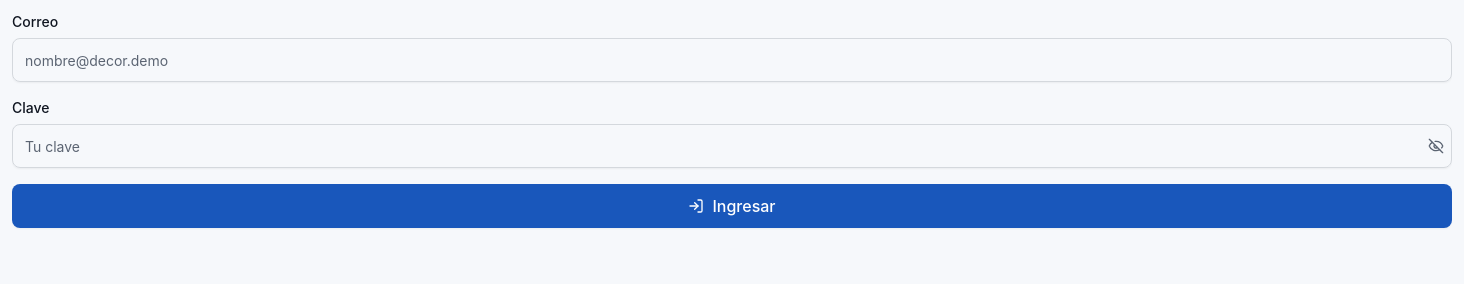
Test case: UserAuthForm › rejects a wrong password with a clear message
In the field labelled "Correo": (732, 60) x1=12 y1=38 x2=1452 y2=82, type "marcela.ortiz@decor.demo"
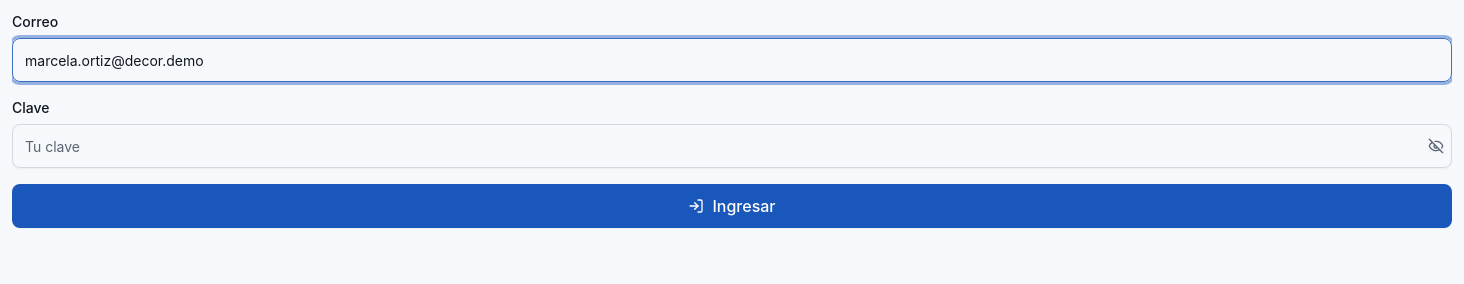
In the password field labelled "Clave": (732, 146) x1=12 y1=124 x2=1452 y2=168, type "mala"
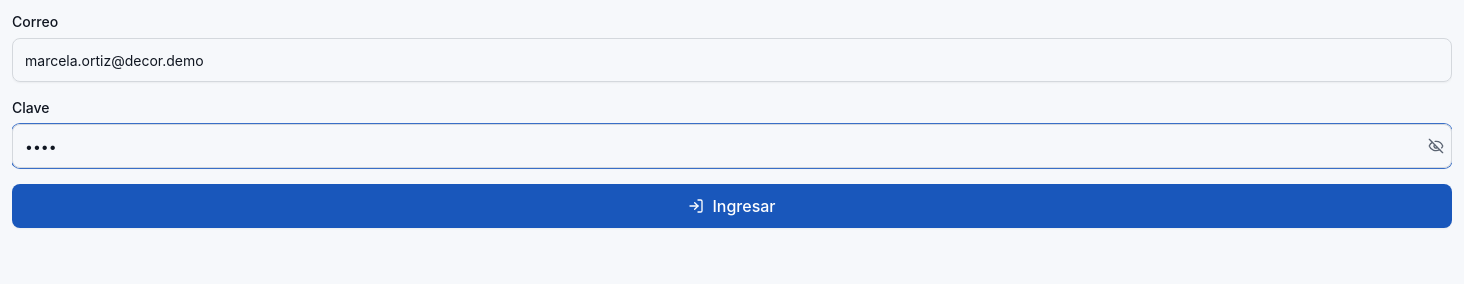
Click the button "Ingresar": click(732, 206) x1=12 y1=184 x2=1452 y2=228
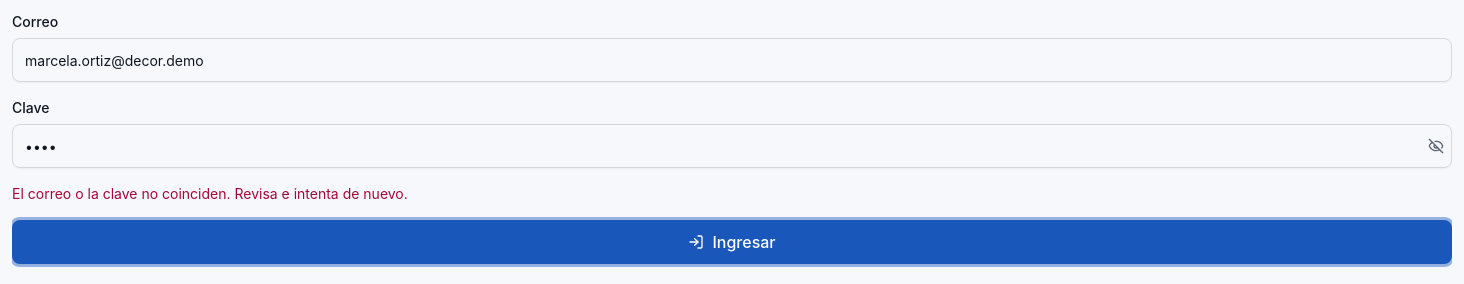
Expected: the text "El correo o la clave no coinciden. Revisa e intenta de nuevo." is shown, x1=12 y1=185 x2=408 y2=202
